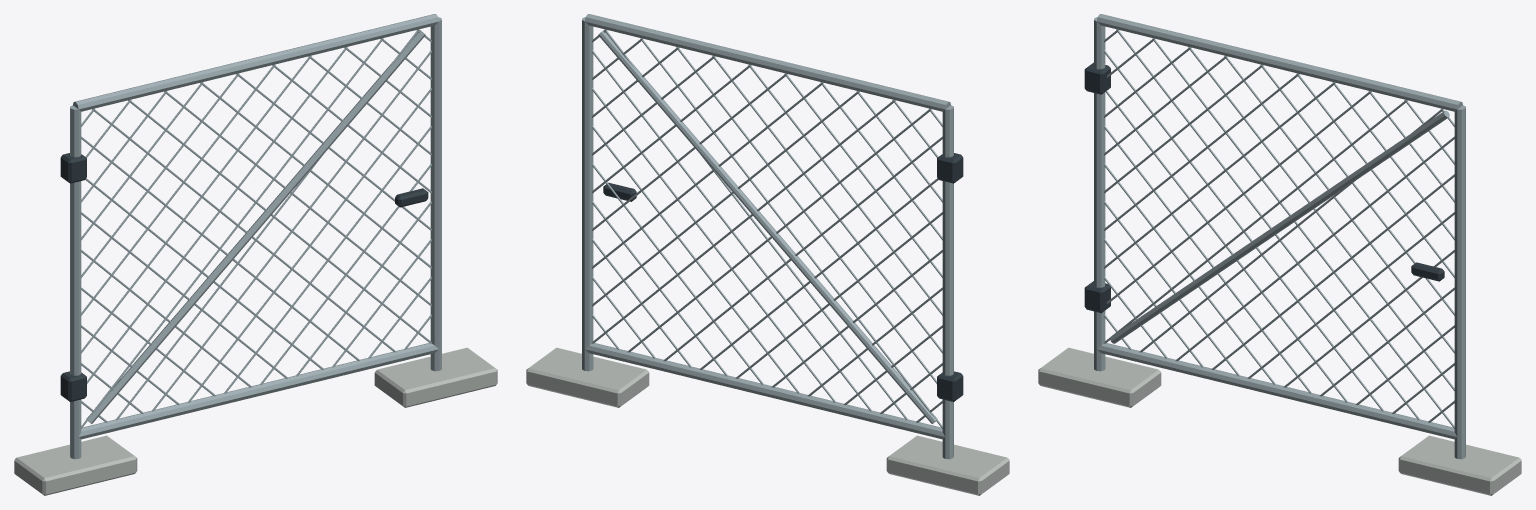
Rendered from Construction_Fence_Gate.glb.
3 renders of one model, left to right at view 1: azimuth 30°, elevation 25°; view 2: azimuth 150°, elevation 25°; view 3: azimuth 330°, elevation 25°, orthographic.
Visible parts, largest first — view 1: Construction_Fence_Gate; view 2: Construction_Fence_Gate; view 3: Construction_Fence_Gate.
Boxes of the visible parts, bbox=[...] form: Construction_Fence_Gate: bbox=[14, 14, 497, 495]; Construction_Fence_Gate: bbox=[526, 14, 1009, 495]; Construction_Fence_Gate: bbox=[1038, 14, 1521, 495].
Size of the model in its own units: 2.4 by 1.88 by 0.28.
